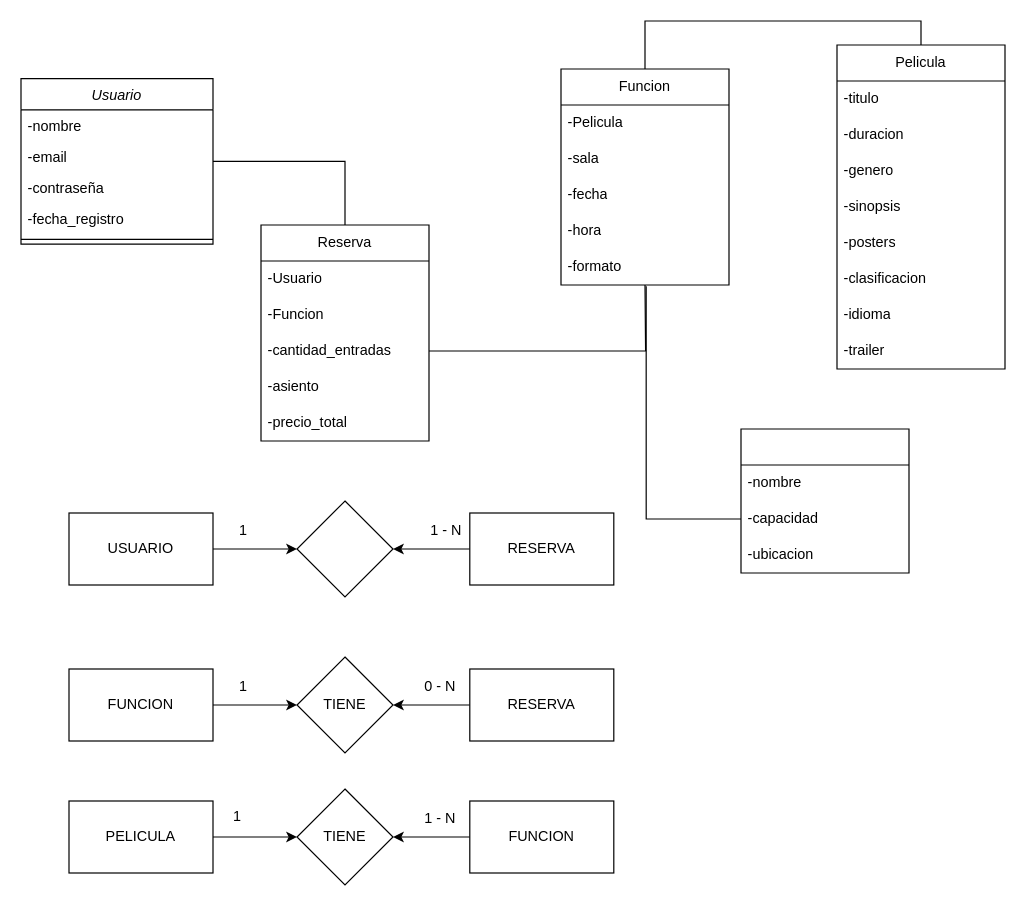
Image size: 1026x906. Some labels were removed from this diagram. Here are the shapes that lost their labels. From the top down, the box of each, then its label:
(740, 428, 909, 573): Sala
(296, 500, 393, 597): HACE
